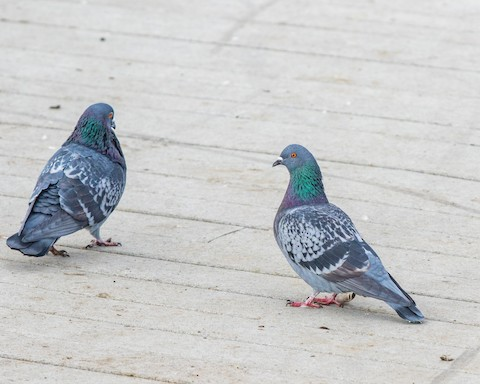pigeon: (263, 138, 430, 330), (5, 98, 129, 261)
